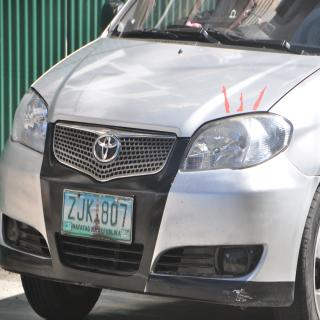license: (62, 190, 134, 245)
